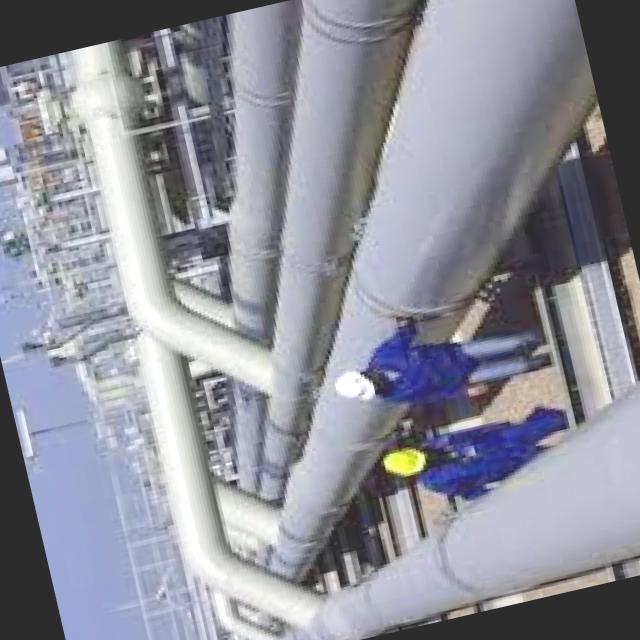gas: (268, 0, 592, 578), (280, 381, 640, 640), (258, 0, 420, 497), (73, 39, 269, 391), (141, 335, 324, 625), (230, 0, 297, 338), (234, 383, 265, 492)
